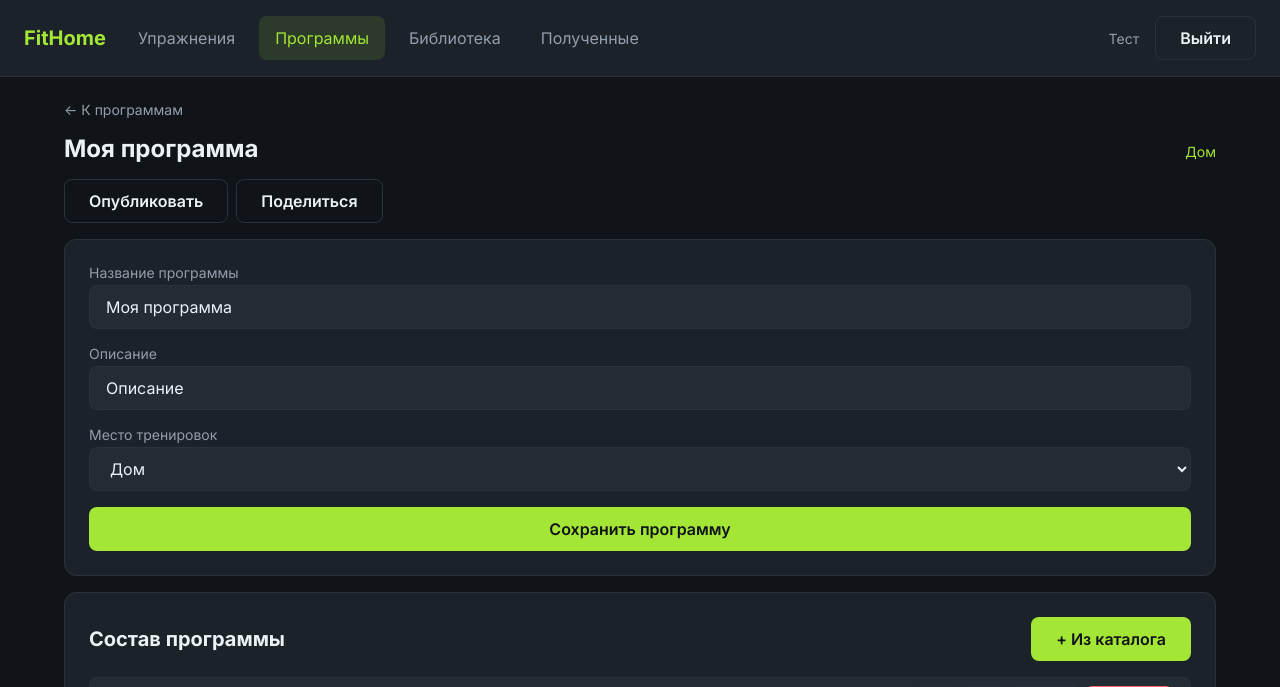
ProgramDetailPage — ошибки › ошибка добавления упражнения показывается в модалке
Expected: the heading "Состав программы" is shown, top-left (89, 627), bottom-right (285, 651)
Click the button "+ Из каталога" at (1111, 639), box top-left (1031, 617), bottom-right (1191, 661)
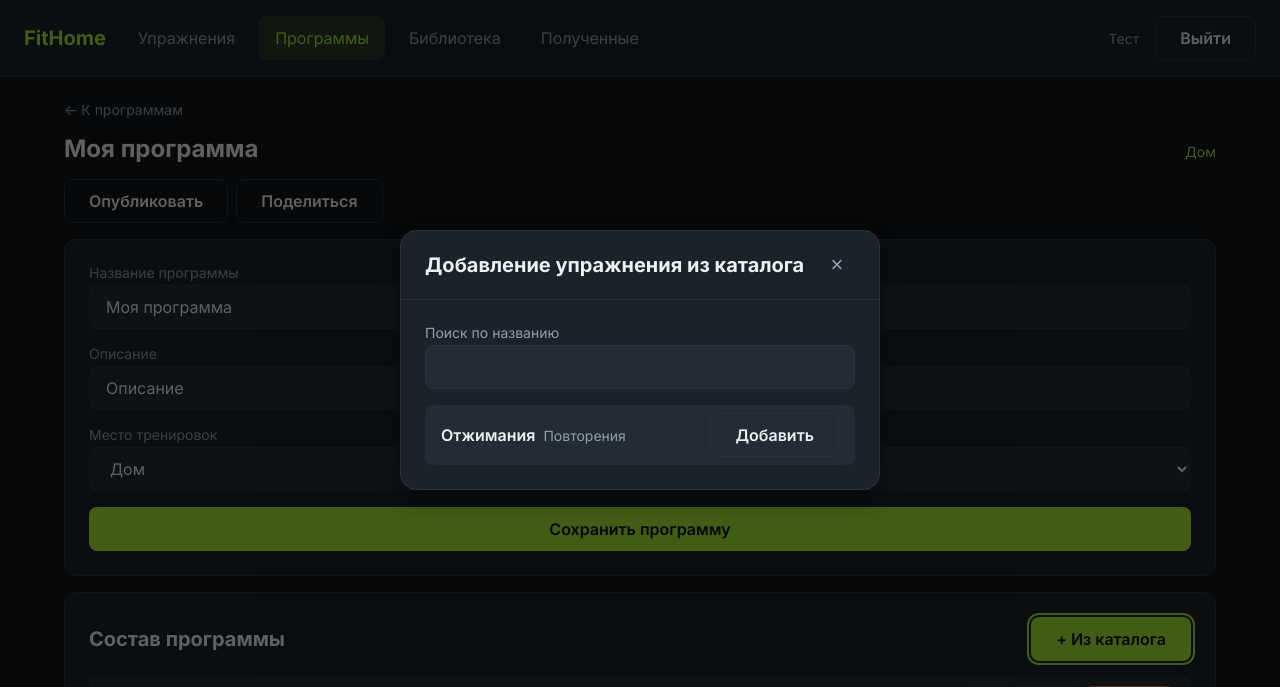
Expected: the text "Отжимания" is shown, top-left (441, 425), bottom-right (535, 445)
Click the button "Добавить" at (775, 435), box top-left (710, 413), bottom-right (839, 457)
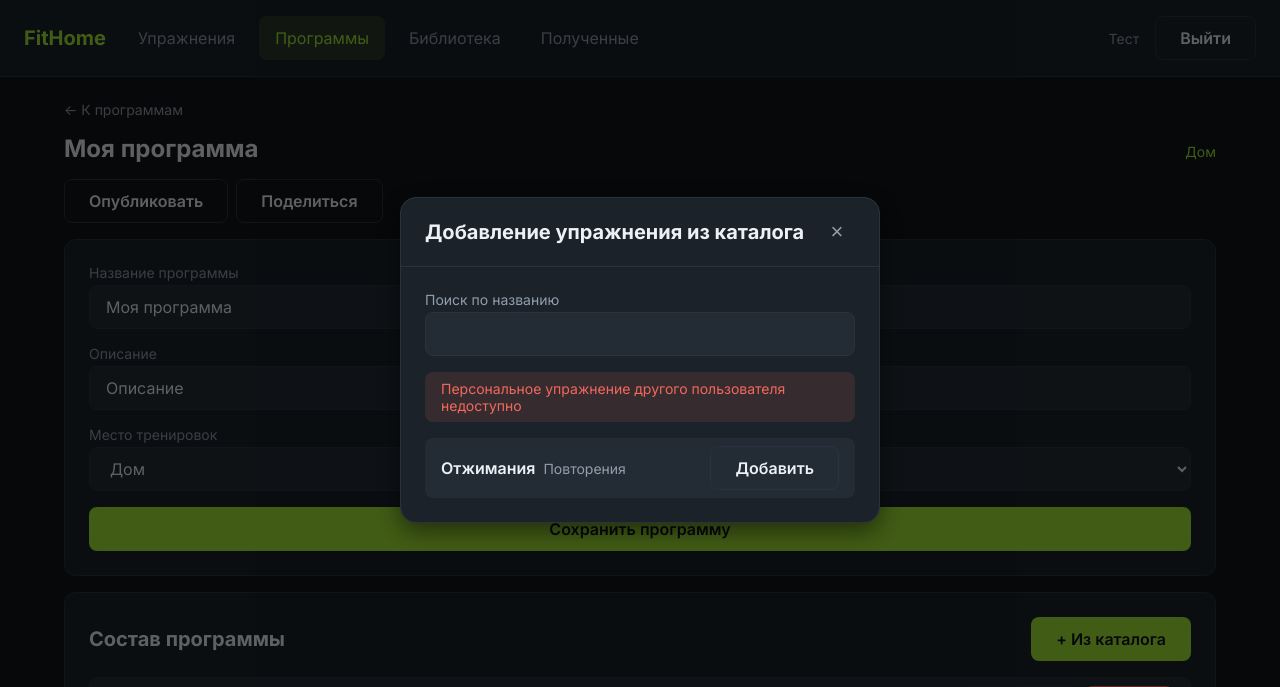
Expected: the message shows "недоступно", top-left (441, 380), bottom-right (785, 414)
